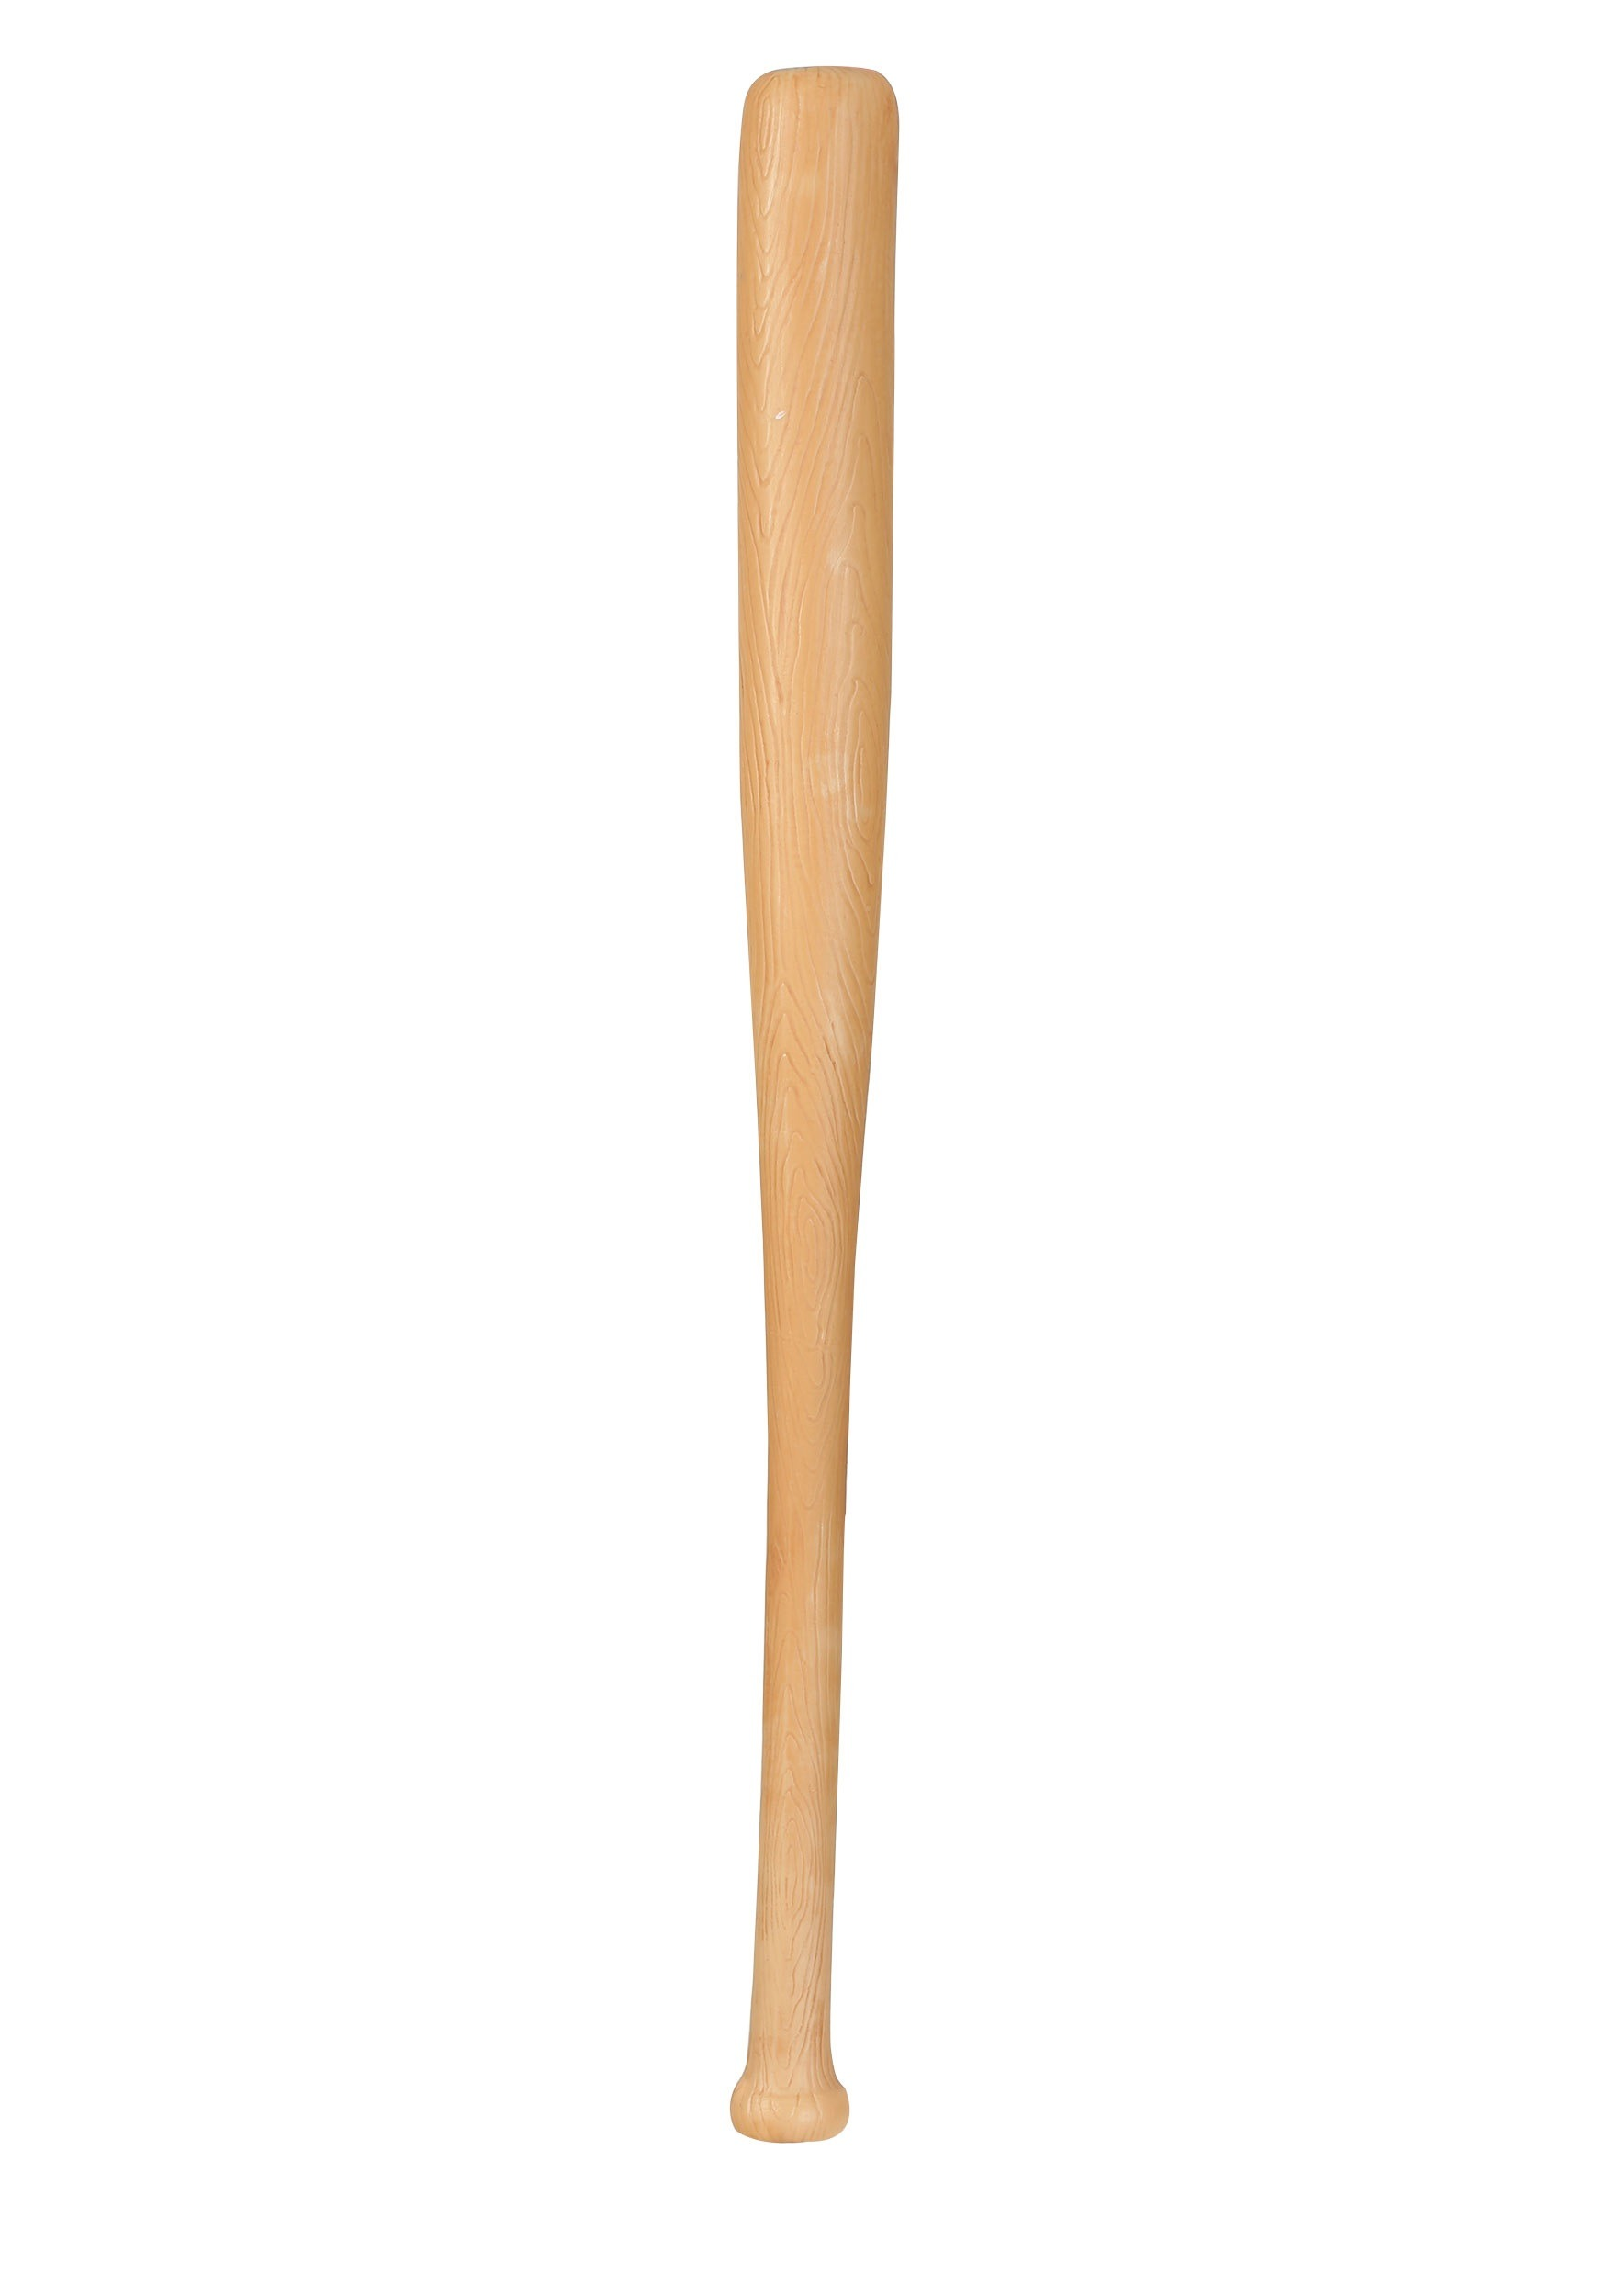bat: (708, 65, 915, 2146)
